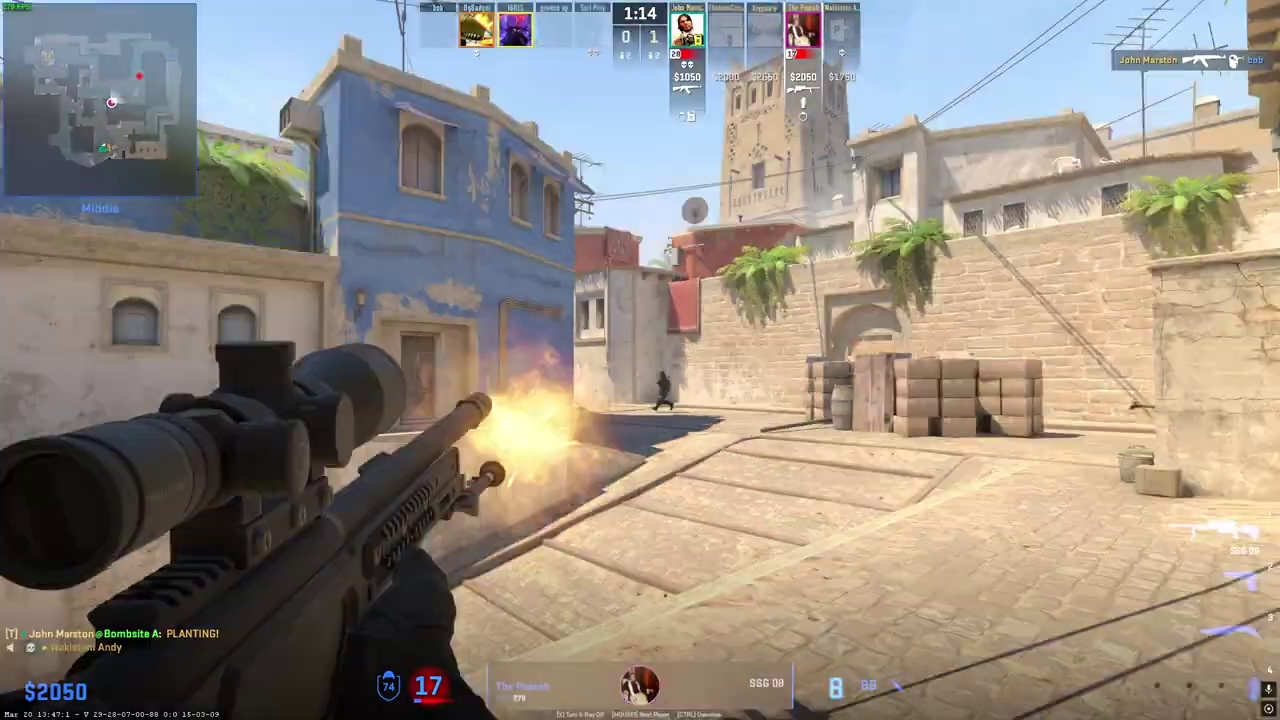CT: (653, 371, 674, 410)
